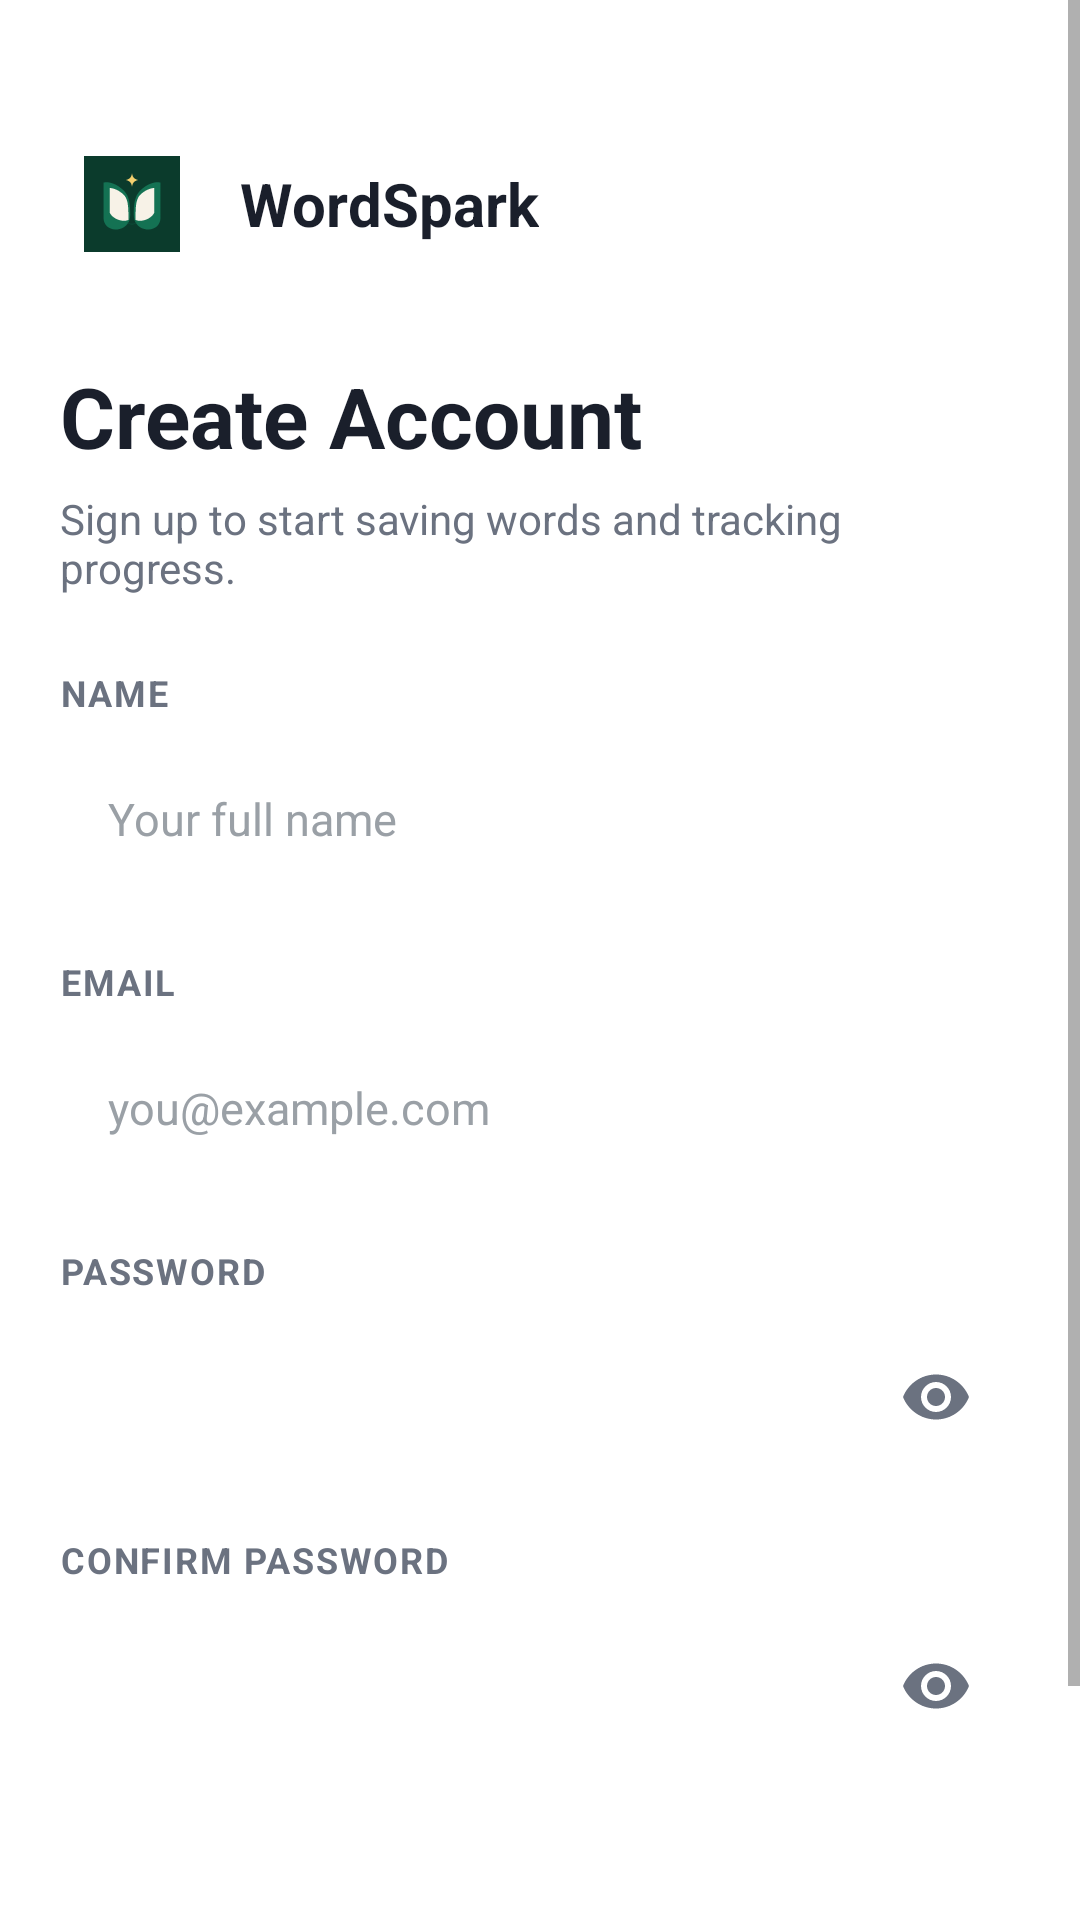

Icons on this 1080x1920 Android screen, each with the point to tap as [x,y]:
Show confirm password: [936,1686]
Show password: [936,1397]
